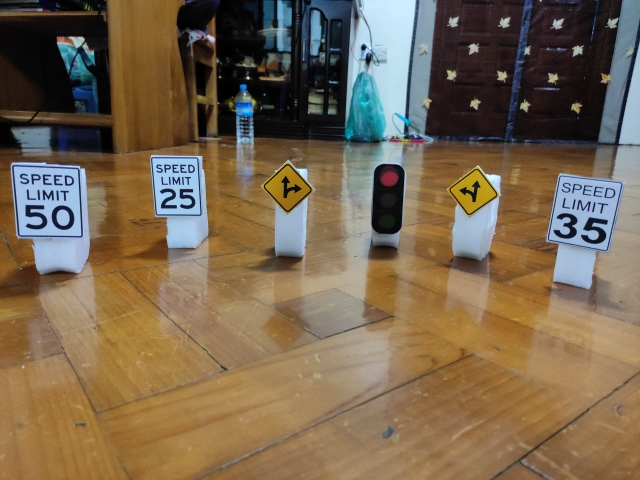Red Traffic Light: (371, 163, 405, 234)
Speed Limit 25: (150, 155, 204, 218)
Speed Limit 35: (548, 175, 621, 249)
Speed Limit 50: (10, 164, 86, 242)
Straight Or Left Sign: (448, 167, 501, 217)
Straight Or Right Sign: (263, 161, 312, 212)
